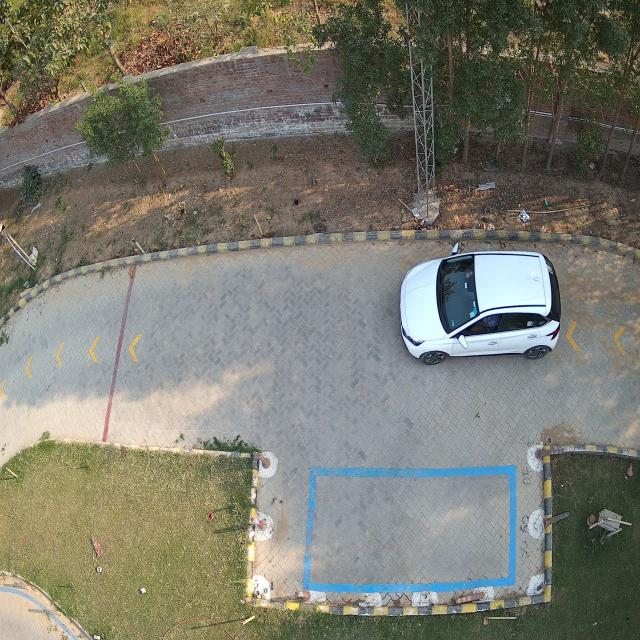car: (400, 250, 561, 363)
